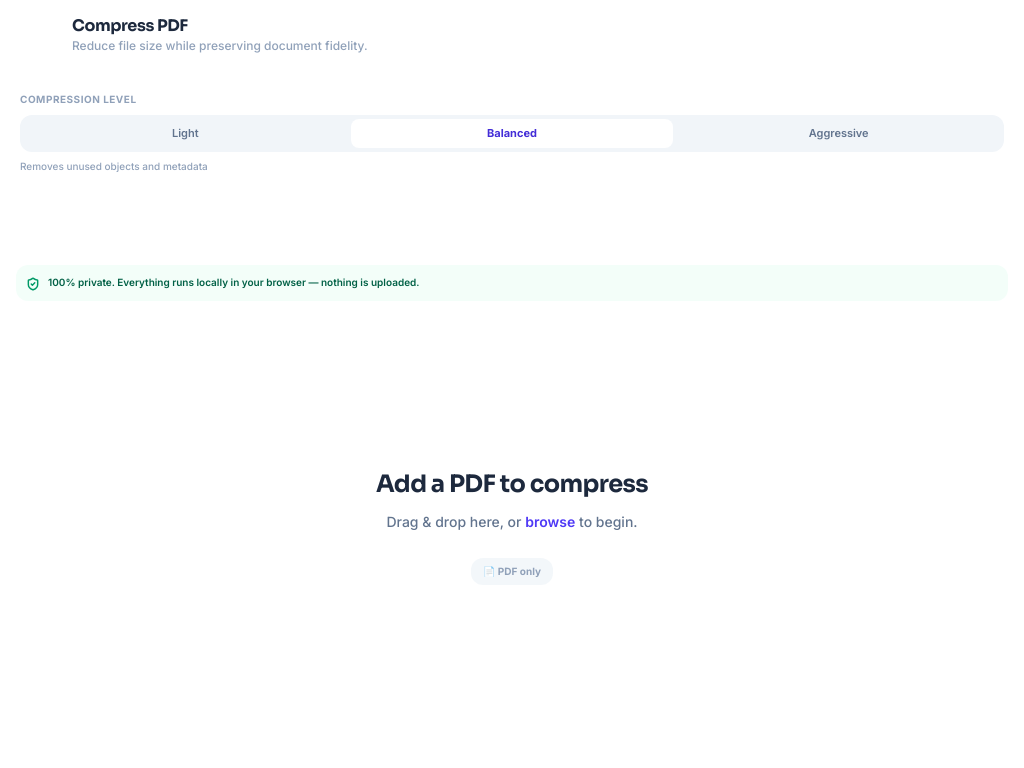
it: Compress Component › should switch description when level changes
This screenshot has width=1024, height=768.
Step 1. Click the button "Light" → (185, 133), box x1=24 y1=119 x2=347 y2=148
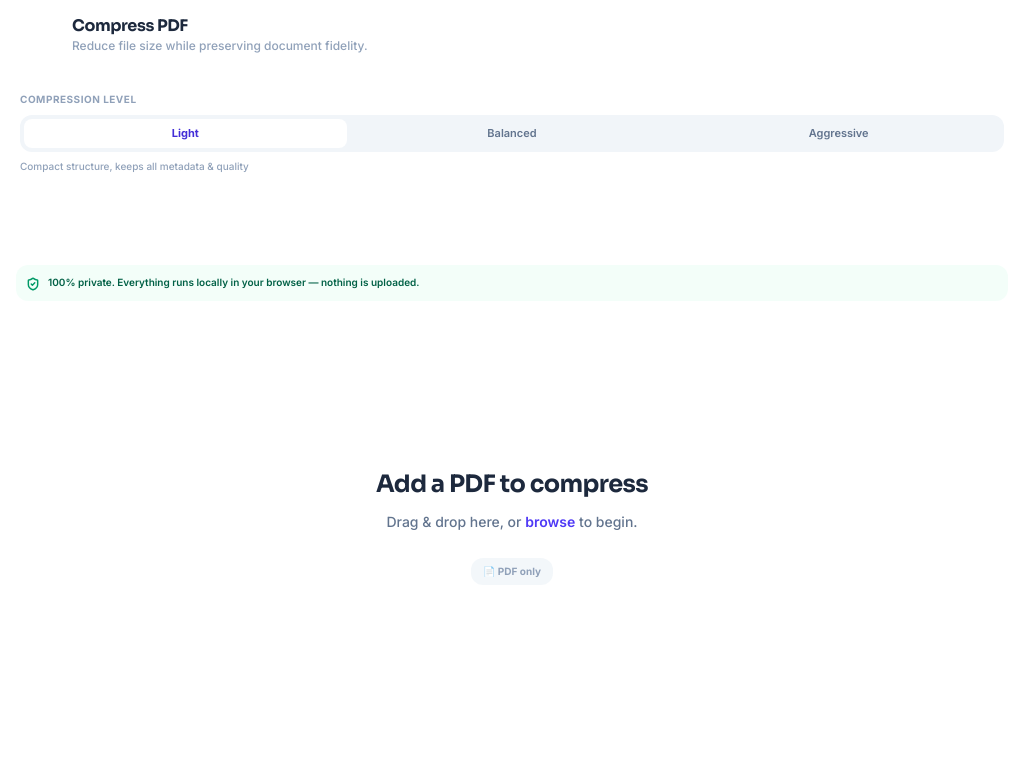
Check: the text "Compact structure, keeps all metadata & quality" is shown, box x1=20 y1=160 x2=249 y2=172
Step 2. Click the button "Aggressive" → (839, 133), box x1=677 y1=119 x2=1000 y2=148
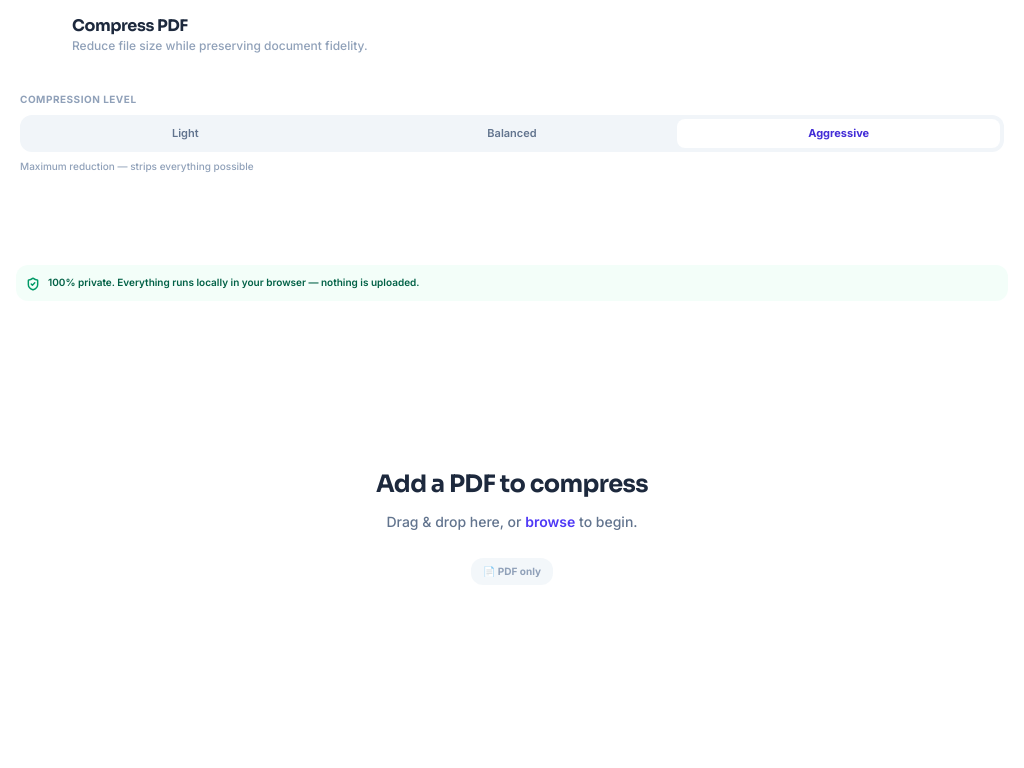
Check: the text "Maximum reduction — strips everything possible" is shown, box x1=20 y1=160 x2=254 y2=172
